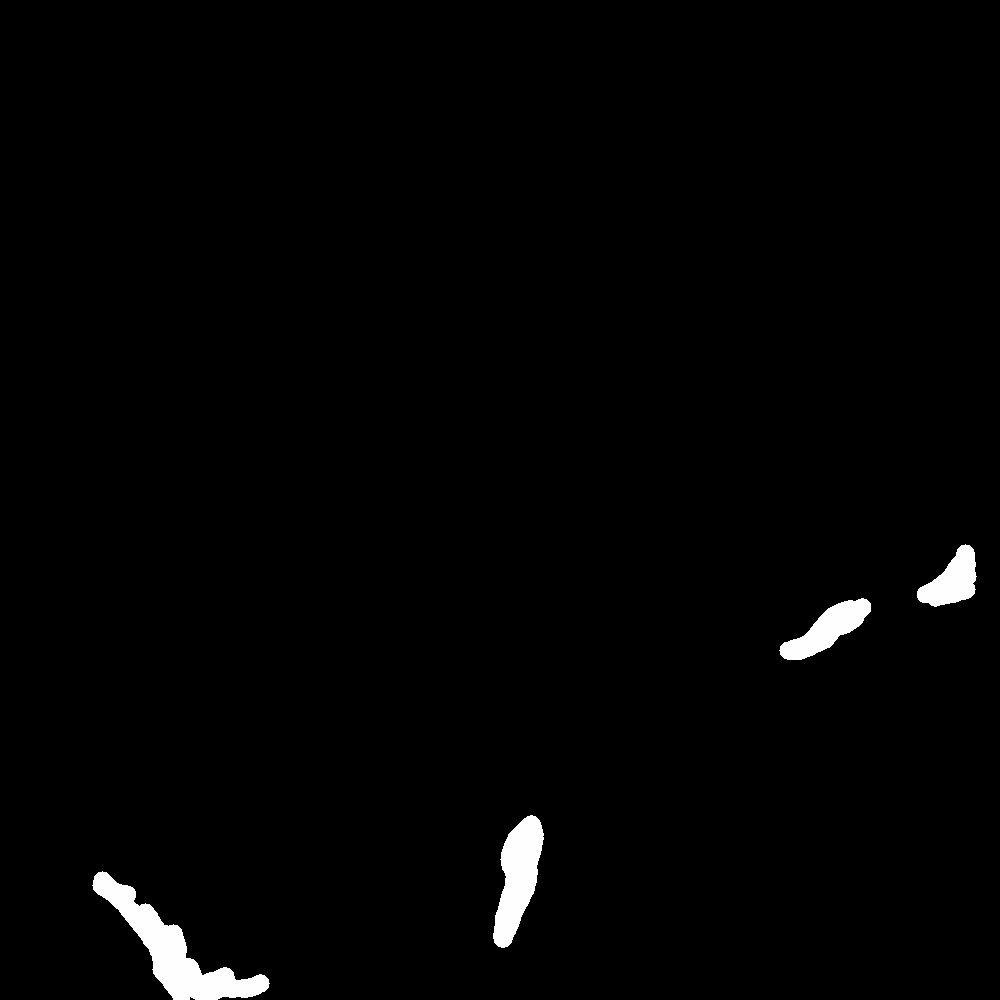illegal: (793, 540, 993, 658), (133, 869, 253, 1000), (493, 806, 556, 944)
